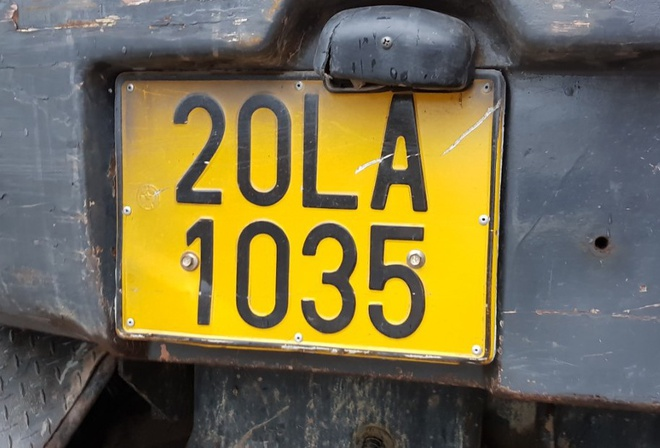plate: (115, 72, 498, 364)
